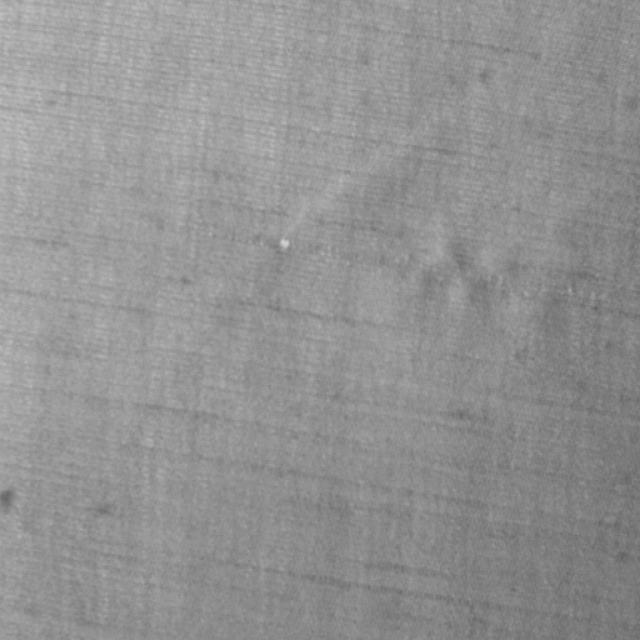hole: (277, 234, 291, 252)
